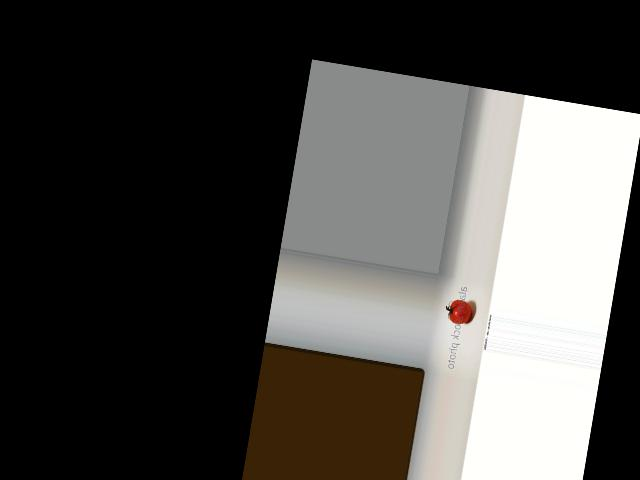tomato: (447, 298, 473, 326)
